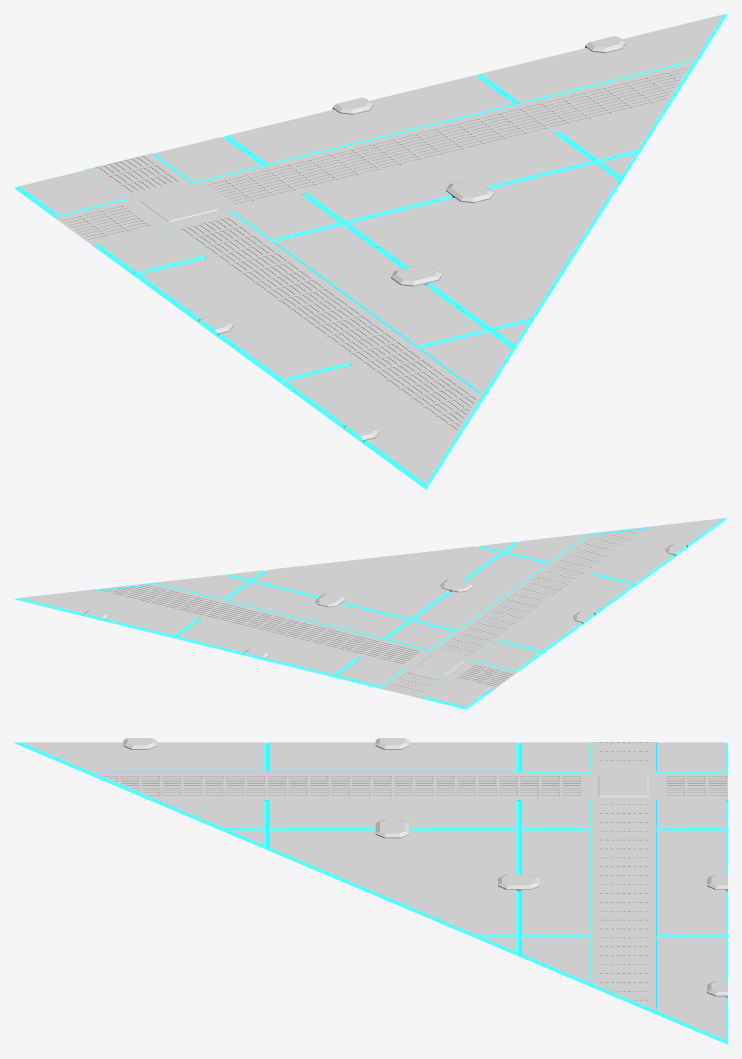
File: SM_GroundTile_Corner.fbx
3 views of the same model, one above another, from view 1: azimuth 30°, elevation 25°; view 2: azimuth 150°, elevation 25°; view 3: azimuth 270°, elevation 25° (orthographic). The views are drawn at different scales.
Parts seen in each view (by area): view 1: Plane.012; view 2: Plane.012; view 3: Plane.012.
Boxes of the visible parts, box(x1,y1,x2,y2) form: Plane.012: box(14, 14, 727, 489); Plane.012: box(14, 518, 727, 709); Plane.012: box(14, 738, 727, 1044).
Size of the model in its own units: 16.97 by 16.97 by 0.1308.
